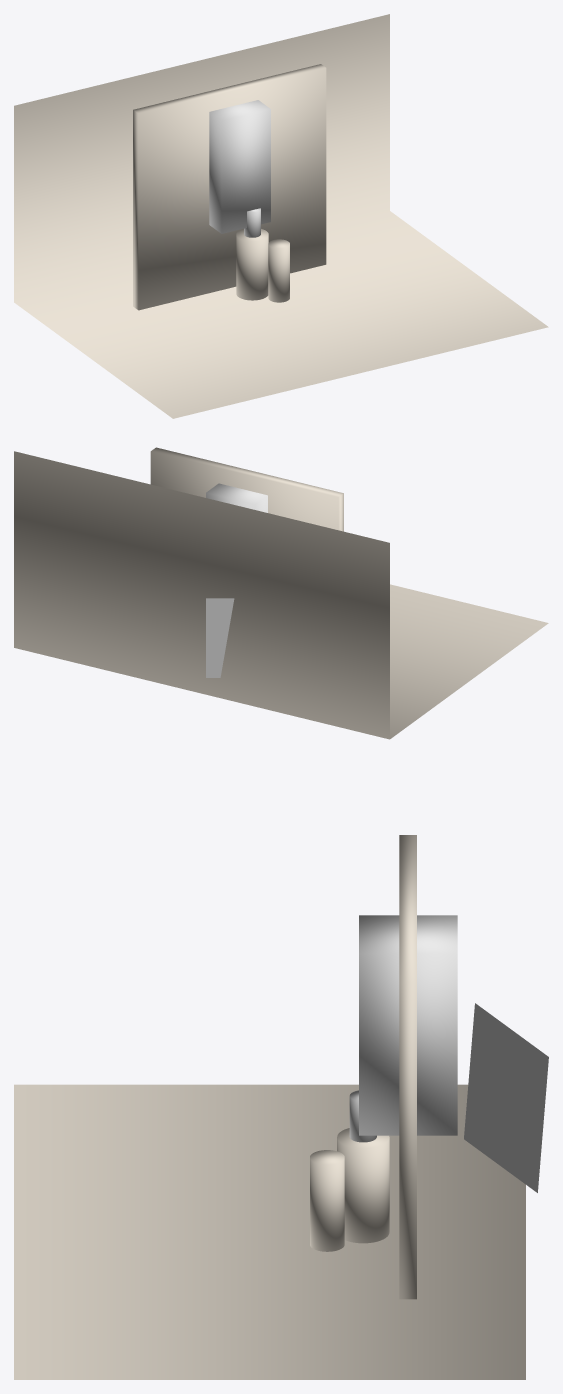
File: white_podium_02.glb
3 renders of one model, top to bottom at view 1: azimuth 30°, elevation 25°; view 2: azimuth 150°, elevation 25°; view 3: azimuth 270°, elevation 25°, orthographic. The views are drawn at different scales.
Visible parts, largest first — view 1: Floor & Wall, Plant, Cube, Podium1, Podium 2; view 2: Floor & Wall, Plant, background_plane, Cube; view 3: Floor & Wall, Cube, background_plane, Plant, Podium1, Podium 2.
Boxes of the visible parts, <box> form: Floor & Wall: <box>14,14,548,418</box>; Plant: <box>133,64,326,310</box>; Cube: <box>209,100,270,233</box>; Podium1: <box>236,229,268,300</box>; Podium 2: <box>268,239,289,302</box>; Floor & Wall: <box>14,451,548,739</box>; Plant: <box>150,447,343,531</box>; background_plane: <box>206,598,234,677</box>; Cube: <box>206,483,267,512</box>; Floor & Wall: <box>14,1084,525,1379</box>; Cube: <box>359,915,457,1135</box>; background_plane: <box>464,1003,548,1192</box>; Plant: <box>399,835,416,1299</box>; Podium1: <box>337,1128,389,1243</box>; Podium 2: <box>310,1150,344,1251</box>.
Size of the model in its own units: 2 by 1 by 1.53.
